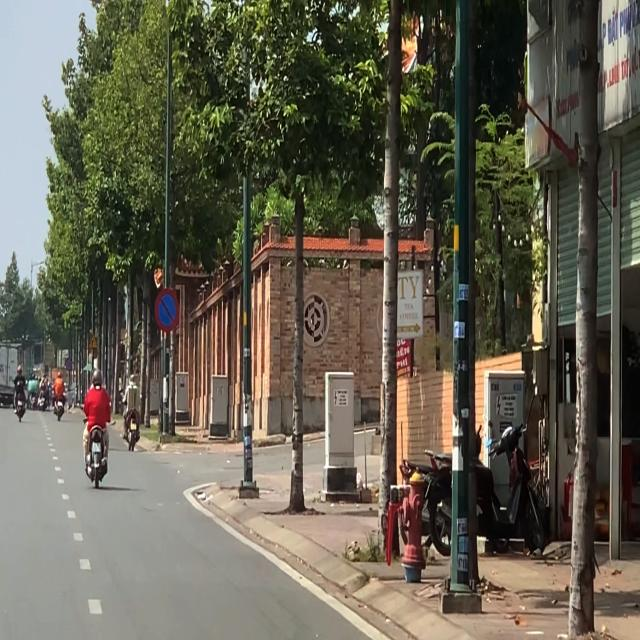Cam do: (154, 288, 180, 332)
Cam dung va do: (66, 358, 72, 370)
Nguy hiem: (88, 334, 99, 349)
